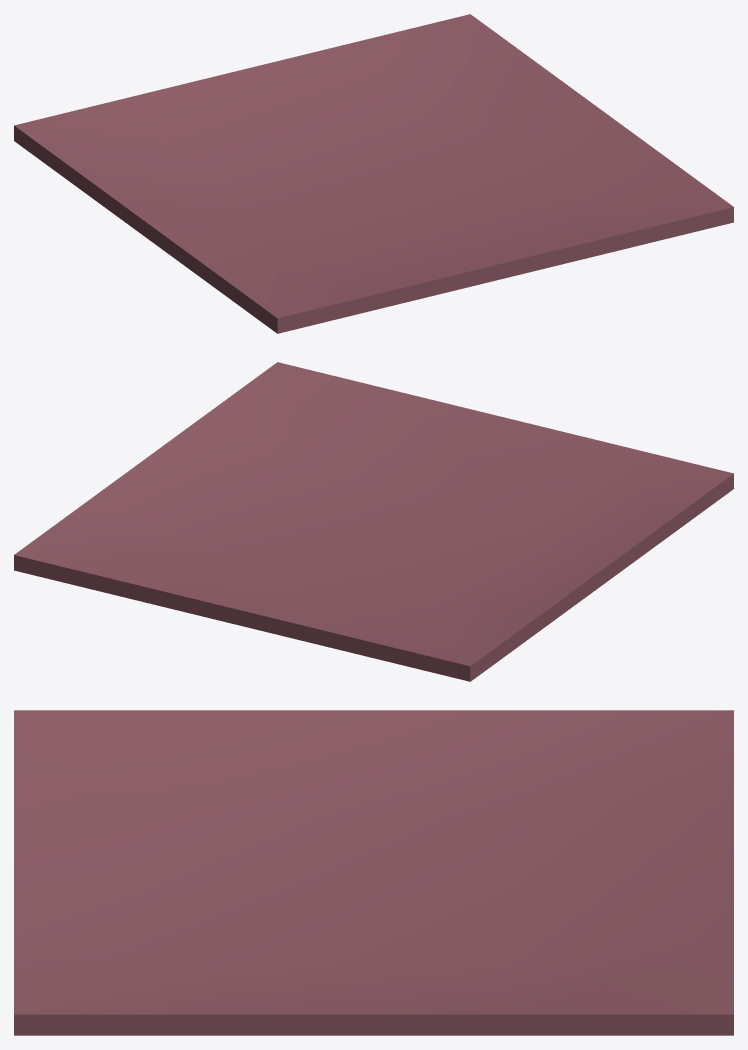
The model's file is Floor_Under_Bend.fbx.
3 views of the same model, one above another, from view 1: azimuth 30°, elevation 25°; view 2: azimuth 150°, elevation 25°; view 3: azimuth 270°, elevation 25° (orthographic). The views are drawn at different scales.
Parts seen in each view (by area): view 1: Floor_Under_Bend; view 2: Floor_Under_Bend; view 3: Floor_Under_Bend.
Boxes of the visible parts, box(x1,y1,x2,y2) form: Floor_Under_Bend: box(14, 14, 733, 333); Floor_Under_Bend: box(14, 362, 733, 681); Floor_Under_Bend: box(14, 710, 733, 1035).
Bounding box in the file's own units: 206 × 16.33 × 206.
